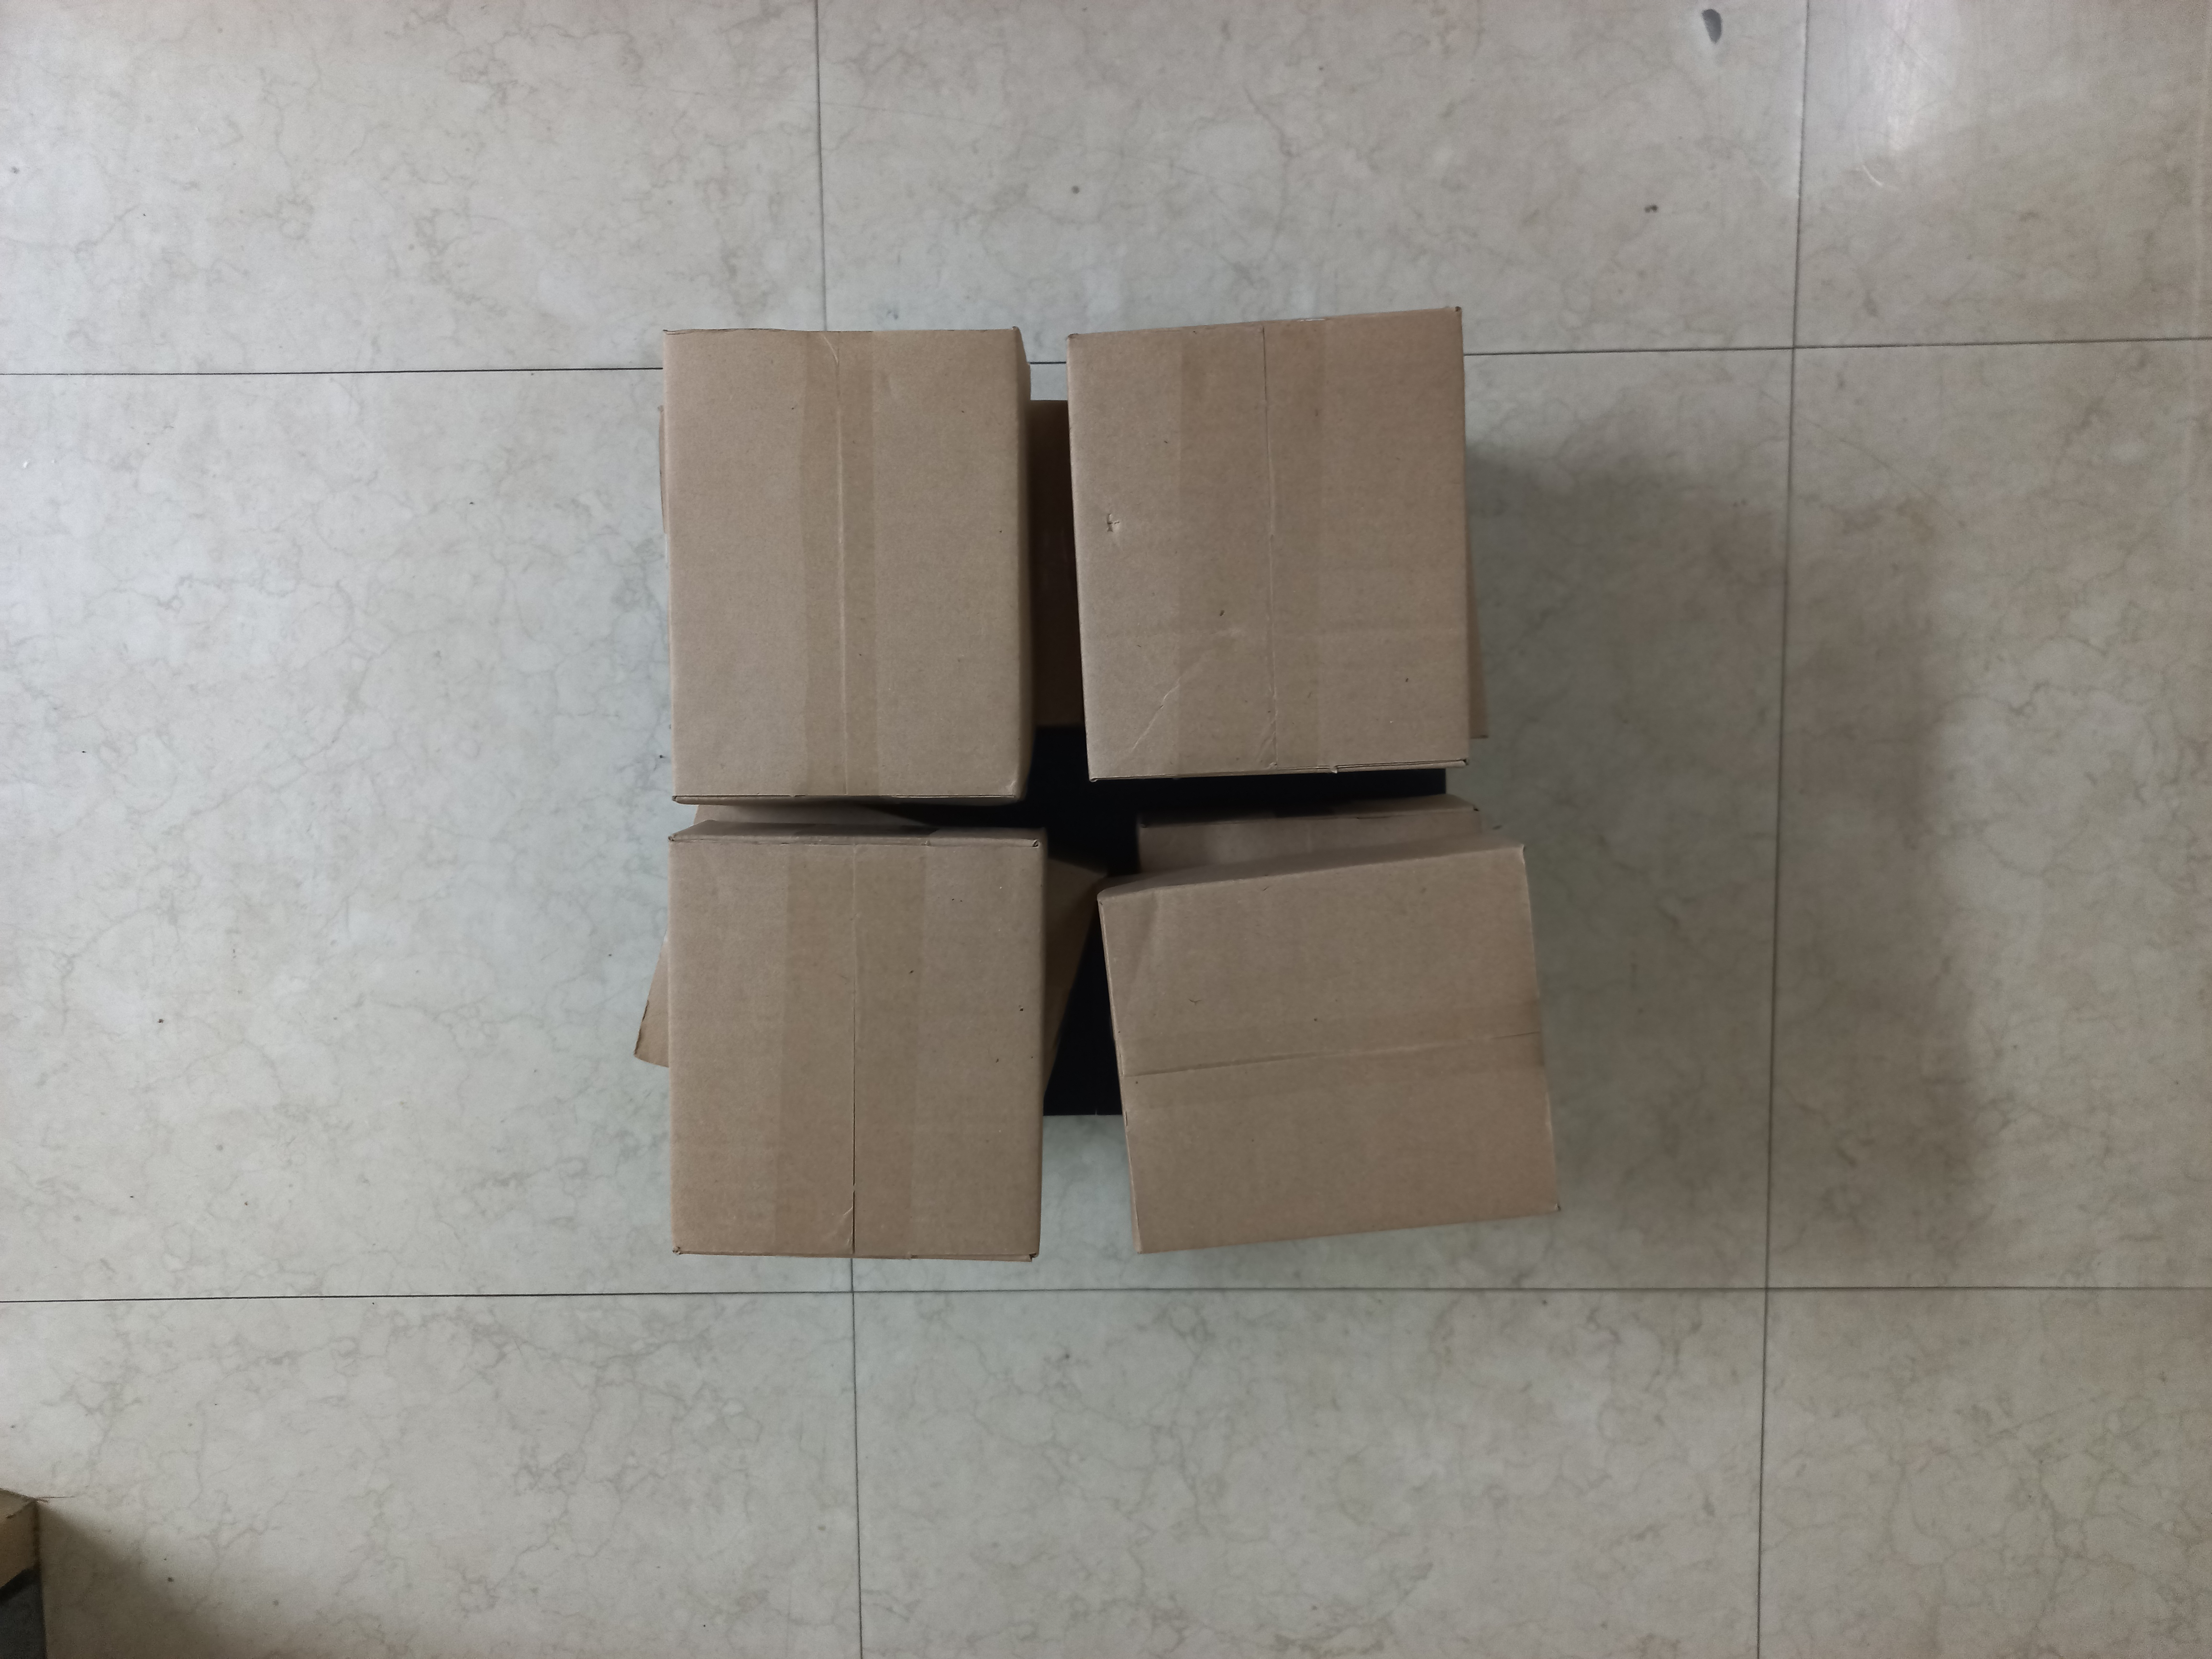box: (1090, 835, 1573, 1260), (1061, 303, 1477, 788), (655, 317, 1033, 807), (660, 817, 1052, 1263)
